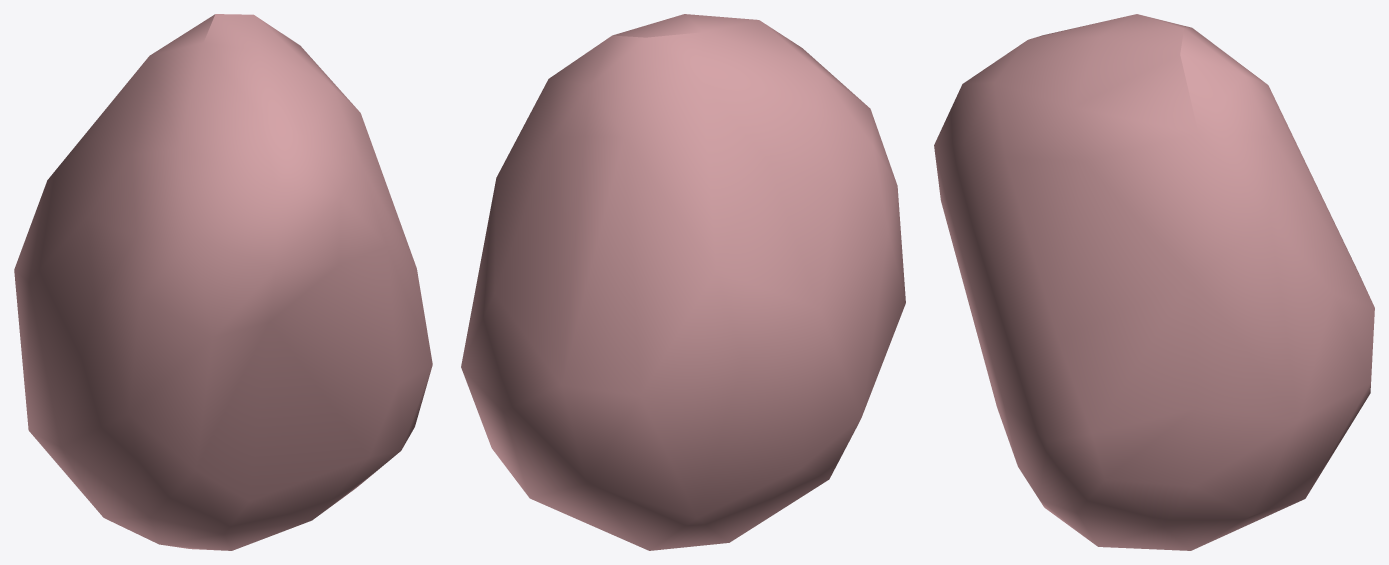
Rendered from fma55561_fj3674.glb.
3 views of the same model, side by side, from view 1: azimuth 30°, elevation 25°; view 2: azimuth 150°, elevation 25°; view 3: azimuth 270°, elevation 25° (orthographic). The views are drawn at different scales.
Visible parts, largest first — view 1: FMA55561_FJ3674; view 2: FMA55561_FJ3674; view 3: FMA55561_FJ3674.
Boxes of the visible parts, left/top/right/bottom form: FMA55561_FJ3674: left=14, top=14, right=432, bottom=550; FMA55561_FJ3674: left=461, top=14, right=905, bottom=550; FMA55561_FJ3674: left=934, top=14, right=1374, bottom=550.
Bounding box in the file's own units: 0.00499 × 0.00678 × 0.00536.
